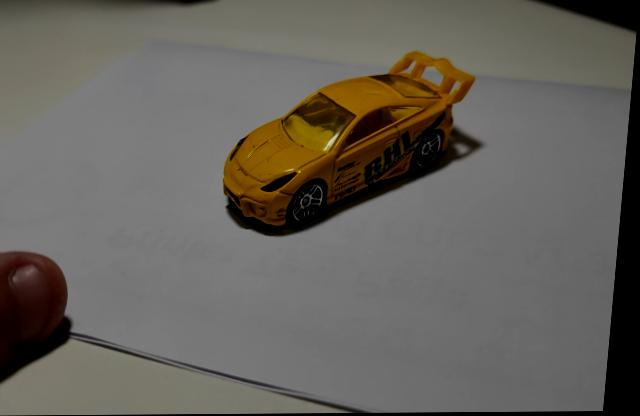07_RHLTURBO: (226, 53, 476, 236)
